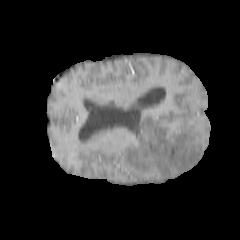glioma: (122, 104, 201, 177)
